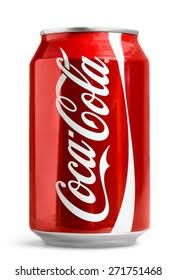can: (25, 24, 153, 253)
